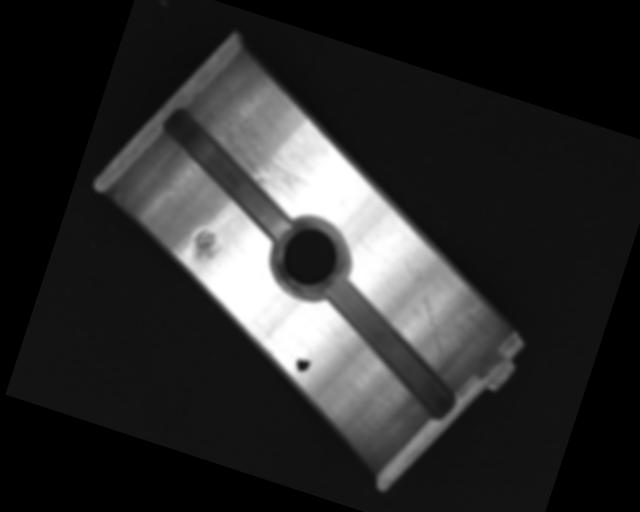blot: (293, 354, 312, 374)
bruise: (189, 226, 224, 264)
gap: (301, 275, 482, 423), (140, 104, 316, 240)
hole: (263, 207, 358, 308)
nick: (378, 257, 471, 360)
scratch: (177, 69, 355, 214)
